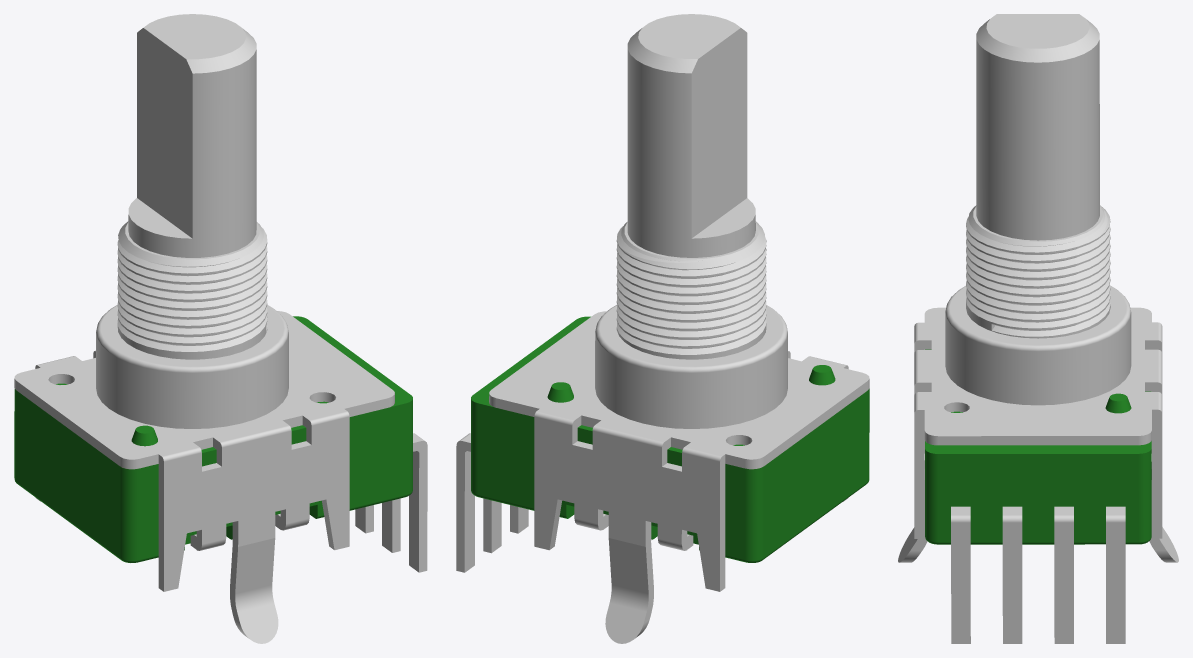
The model's file is pot_RV112FF_D_shaft.glb.
3 views of the same model, side by side, from view 1: azimuth 30°, elevation 25°; view 2: azimuth 150°, elevation 25°; view 3: azimuth 270°, elevation 25° (orthographic). The views are drawn at different scales.
Parts seen in each view (by area): view 1: Solid6, Solid12; view 2: Solid6, Solid12; view 3: Solid6, Solid12.
Boxes of the visible parts, x1,y1,x2,y2 form: Solid6: (14, 14, 427, 643); Solid12: (14, 316, 412, 562); Solid6: (456, 14, 869, 643); Solid12: (471, 316, 869, 562); Solid6: (898, 14, 1178, 643); Solid12: (925, 349, 1151, 544).
Size of the model in its own units: 0.0169 by 0.0285 by 0.0136.
